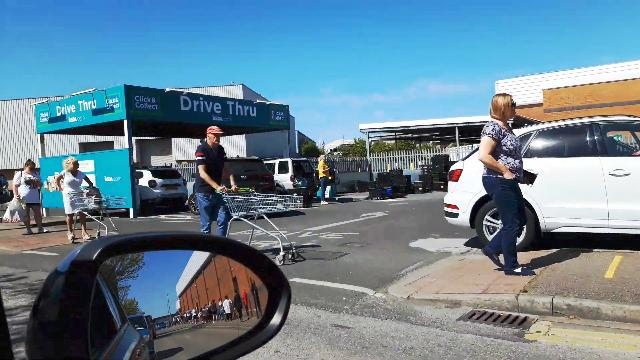berdiri: (462, 89, 542, 283)
